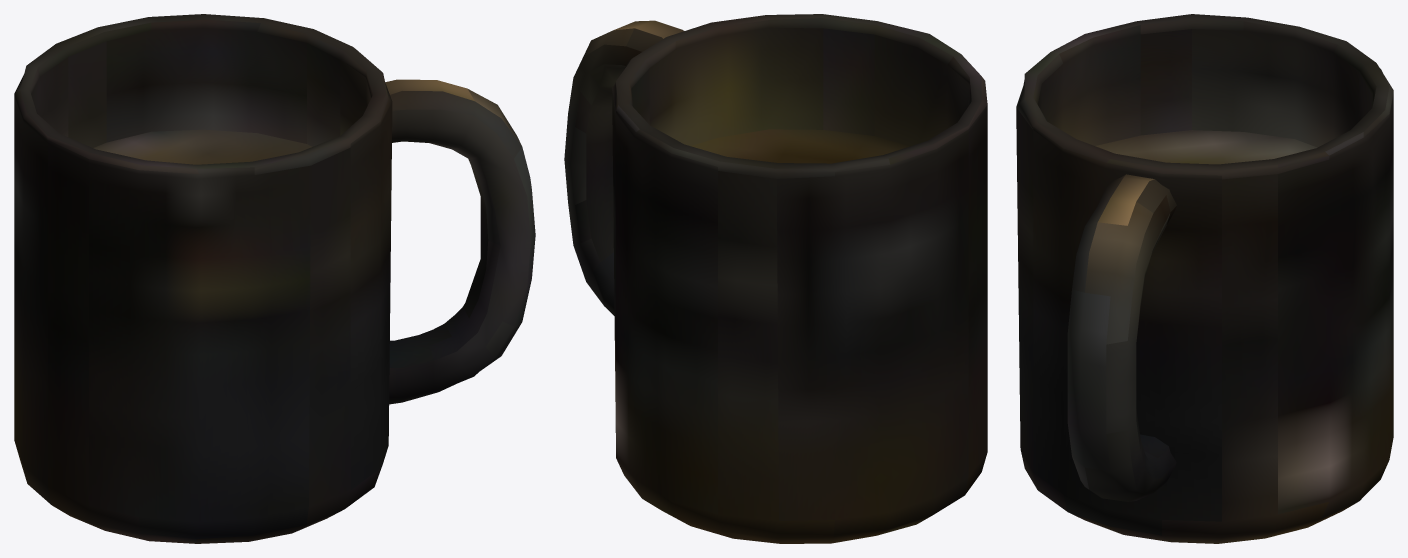
Rendered from OparetionRoom_AI_Prop.025.fbx.
3 views of the same model, side by side, from view 1: azimuth 30°, elevation 25°; view 2: azimuth 150°, elevation 25°; view 3: azimuth 270°, elevation 25° (orthographic).
Parts seen in each view (by area): view 1: OparetionRoom_AI_Prop.025; view 2: OparetionRoom_AI_Prop.025; view 3: OparetionRoom_AI_Prop.025.
Boxes of the visible parts, x1,y1,x2,y2 form: OparetionRoom_AI_Prop.025: (14,14,535,543); OparetionRoom_AI_Prop.025: (564,14,987,543); OparetionRoom_AI_Prop.025: (1016,14,1393,543).
Size of the model in its own units: 30.29 by 25.2 by 22.4.
